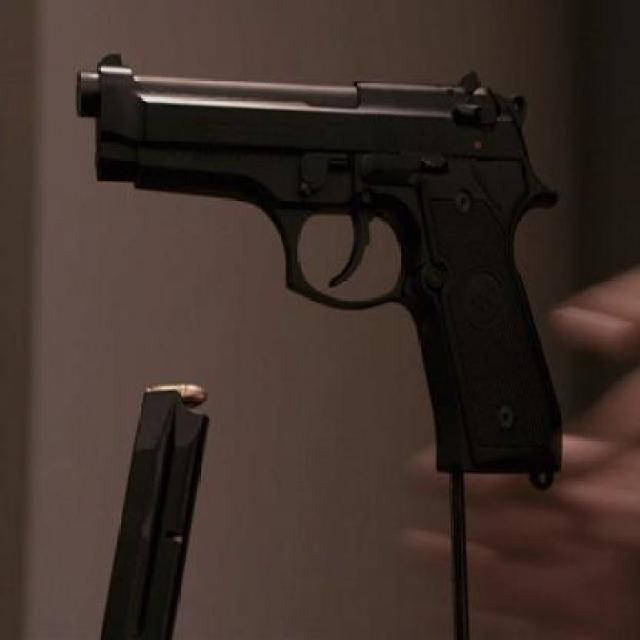gun: (60, 0, 577, 502)
